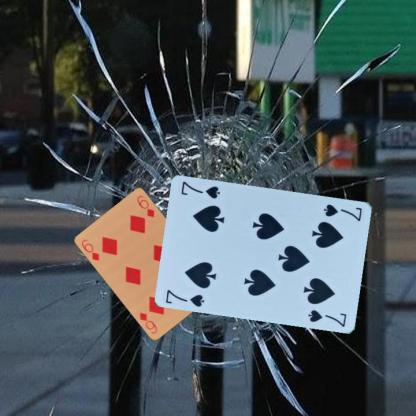6d: (79, 237, 101, 262)
7s: (321, 201, 364, 223), (163, 287, 206, 308)
